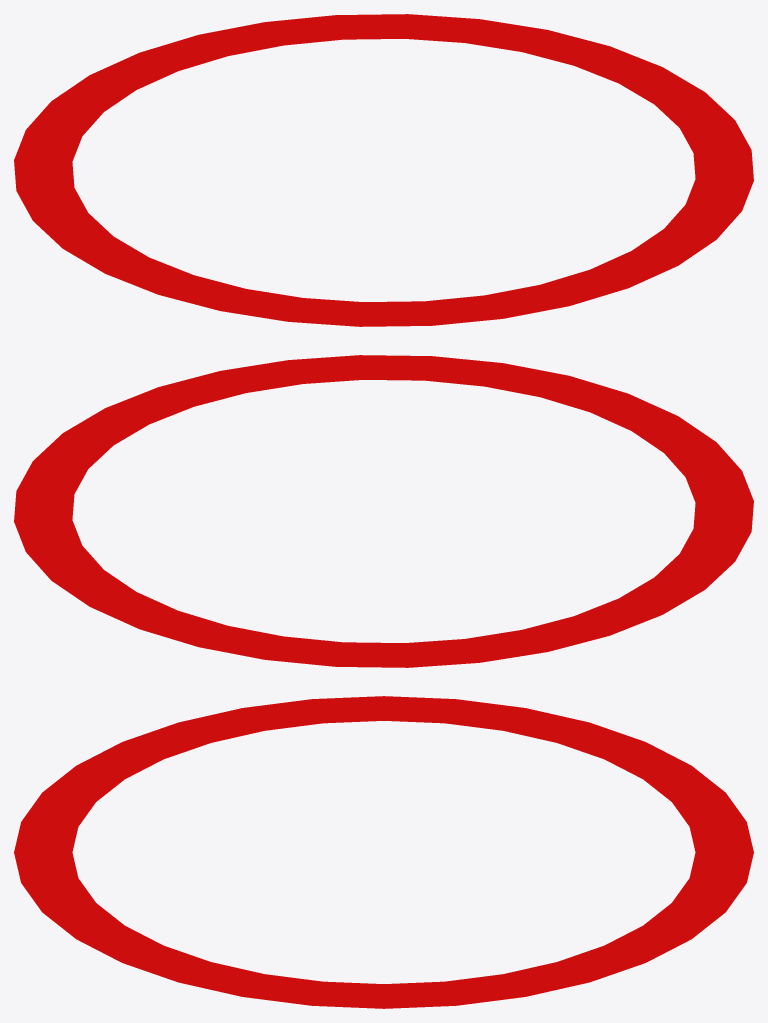
File: thickcircle.fbx
3 views of the same model, one above another, from view 1: azimuth 30°, elevation 25°; view 2: azimuth 150°, elevation 25°; view 3: azimuth 270°, elevation 25° (orthographic).
Visible parts, largest first — view 1: Circle; view 2: Circle; view 3: Circle.
Boxes of the visible parts, x1=… form: Circle: x1=14, y1=14, x2=753, y2=326; Circle: x1=14, y1=355, x2=753, y2=667; Circle: x1=14, y1=696, x2=753, y2=1008.
Bounding box in the file's own units: 279 × 4.54e-05 × 279.
